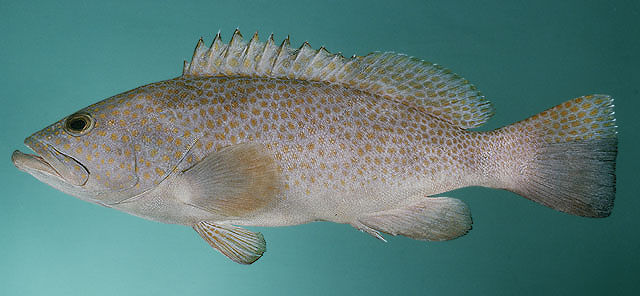fish: (12, 26, 619, 266)
